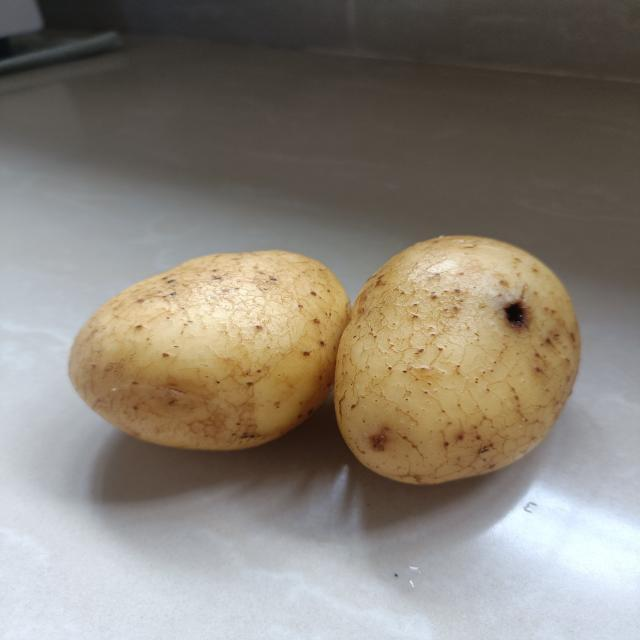potato: (329, 229, 587, 491), (60, 244, 352, 456)
